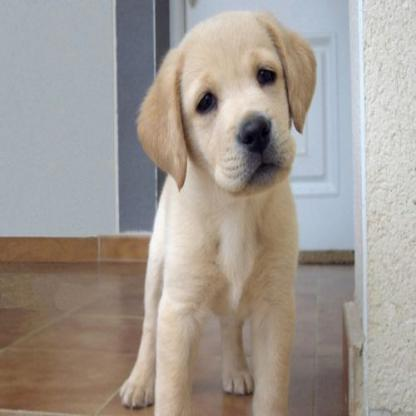dog: (121, 9, 318, 415)
